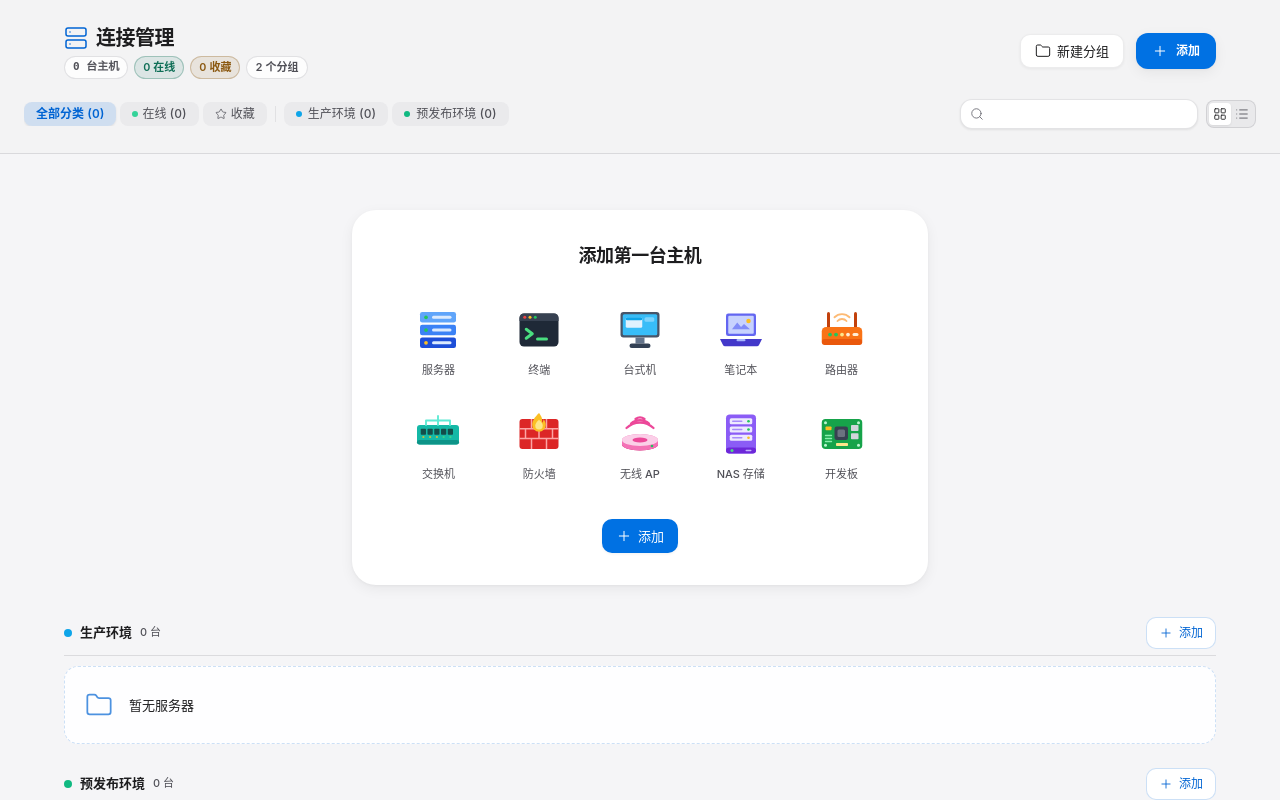
Test: home group entry points › replaces the add section with a modal containing exactly five connection choices
This screenshot has width=1280, height=800.
Step 1. Click the button "添加" below "添加第一台主机" → (640, 536), box [602,518,678,552]
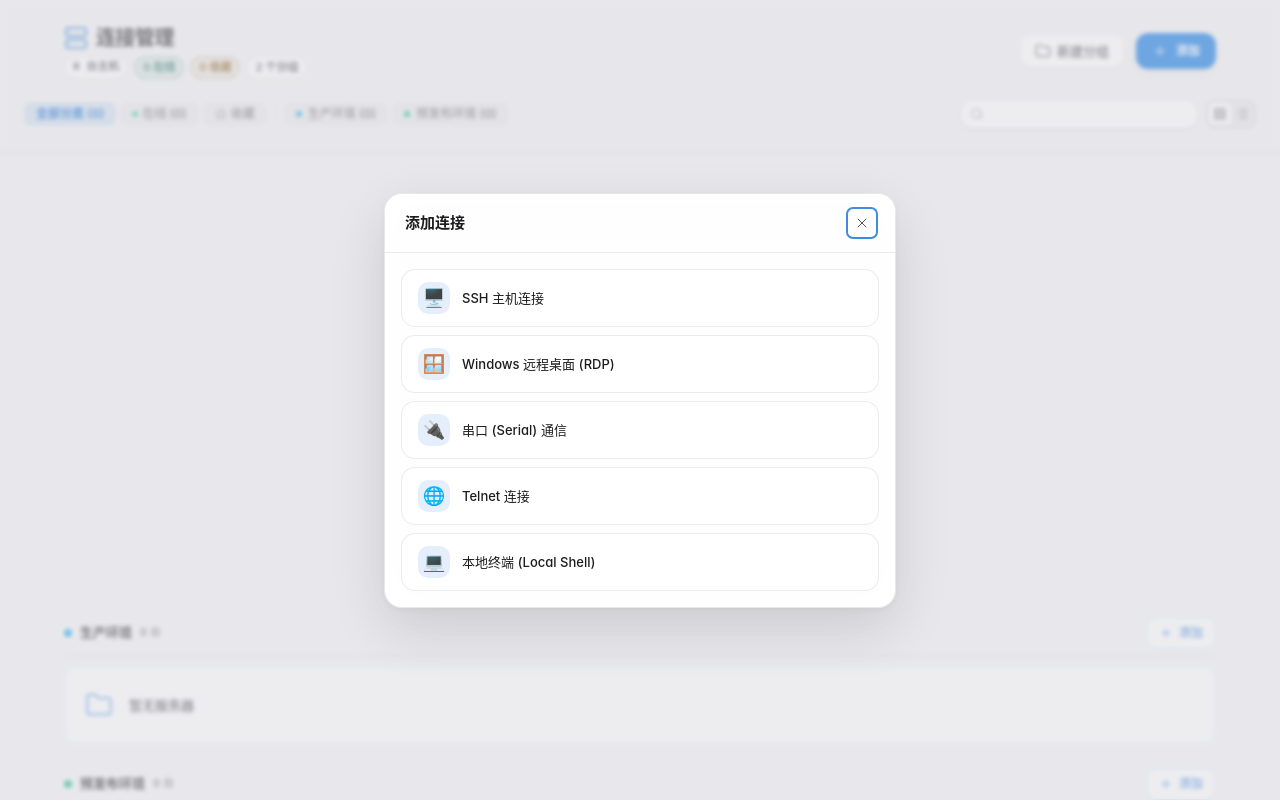
Expected: the dialog named "添加连接" is shown, [384,192,896,608]
Expected: the dialog named "添加连接" shows "SSH 主机连接", [401,268,879,326]
Expected: the dialog named "添加连接" shows "Windows 远程桌面 (RDP)", [401,334,879,392]
